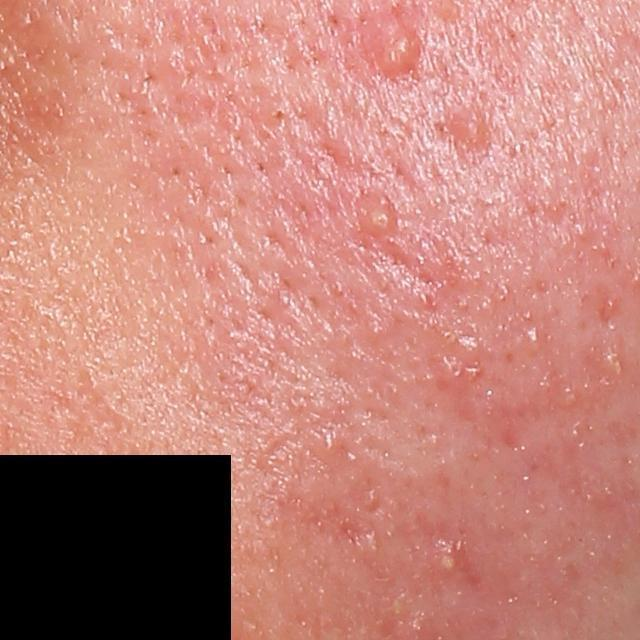comedo: (454, 109, 489, 151)
papule: (371, 26, 425, 83), (350, 192, 406, 238)
